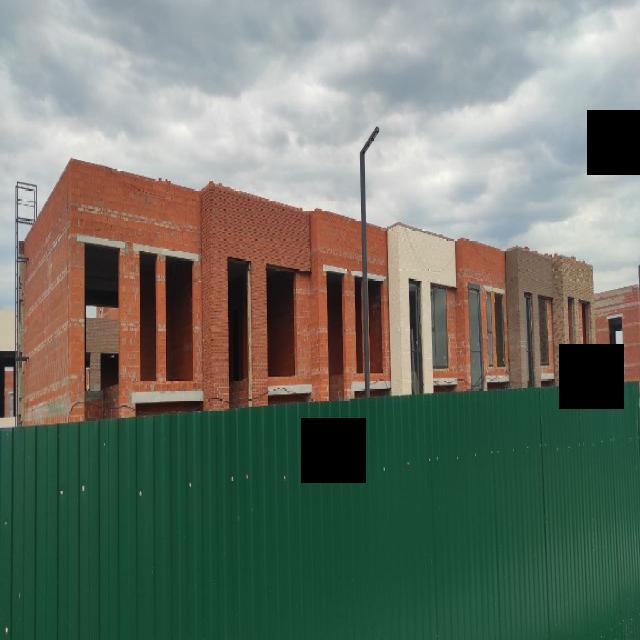Building: (20, 161, 597, 422)
